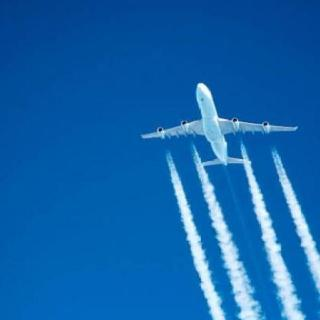Contrails: (158, 147, 320, 320)
